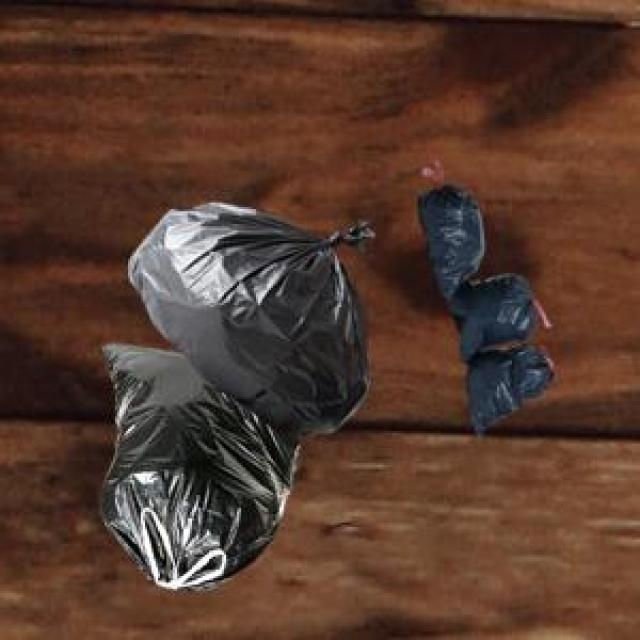Trashbag: (97, 340, 303, 596), (128, 192, 378, 366), (458, 335, 557, 438), (415, 178, 490, 285), (453, 272, 544, 347)
